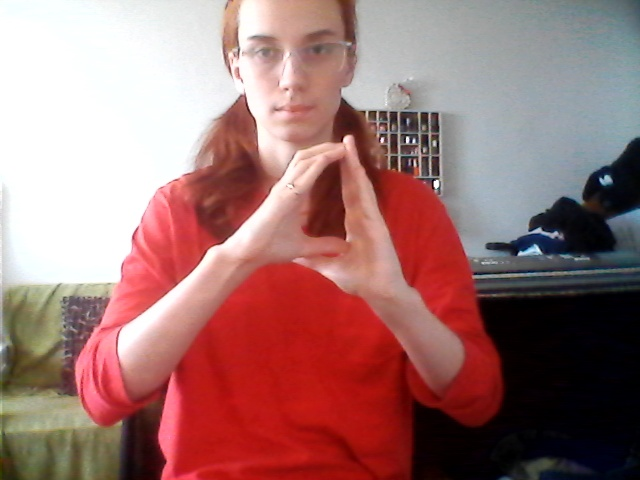d: (259, 134, 401, 307)
